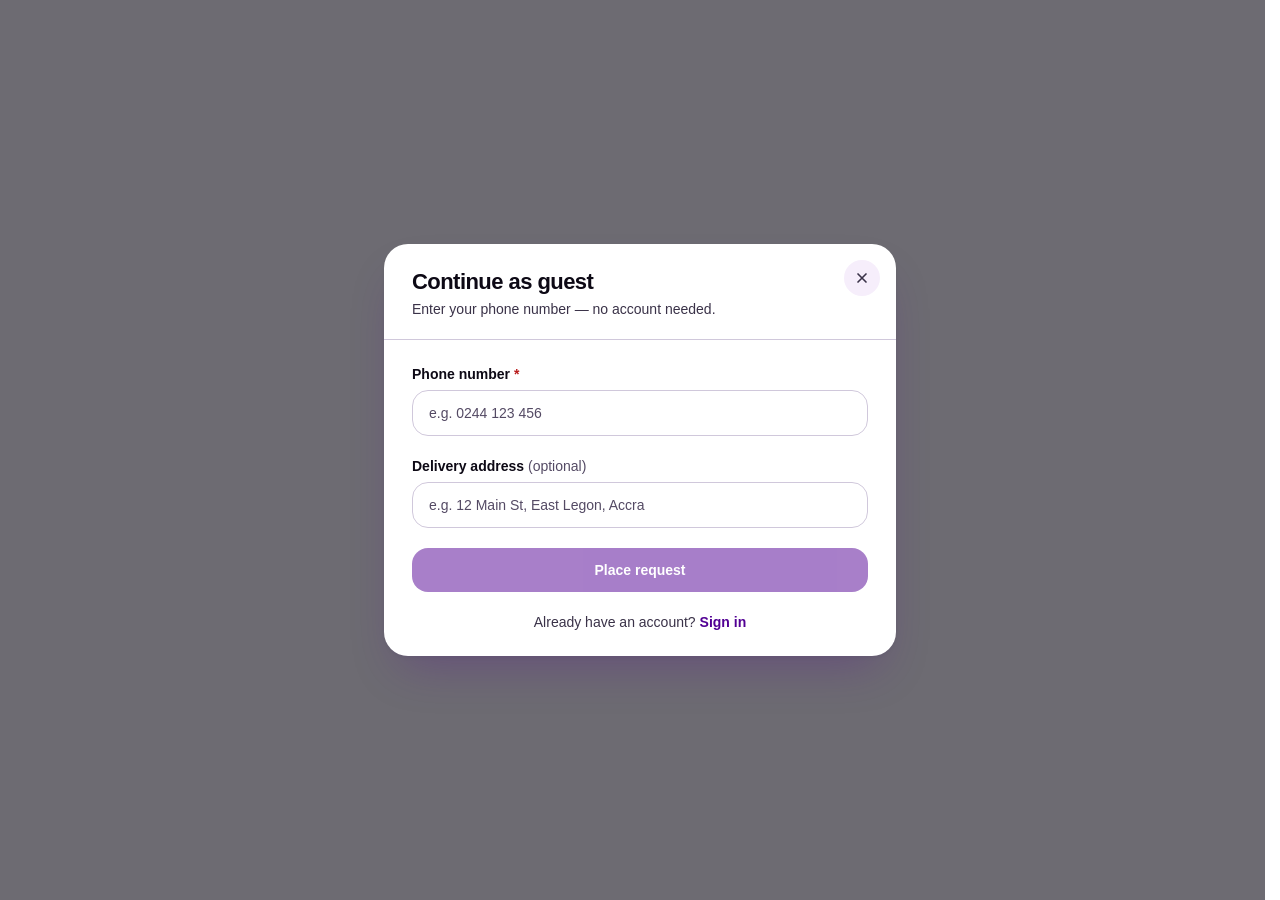
GuestCheckoutForm › placing the request › falls back to a generic message when the server gives none
Type "0244123456" into the field with id "guest-phone" at (640, 413), box [412,390,868,436]
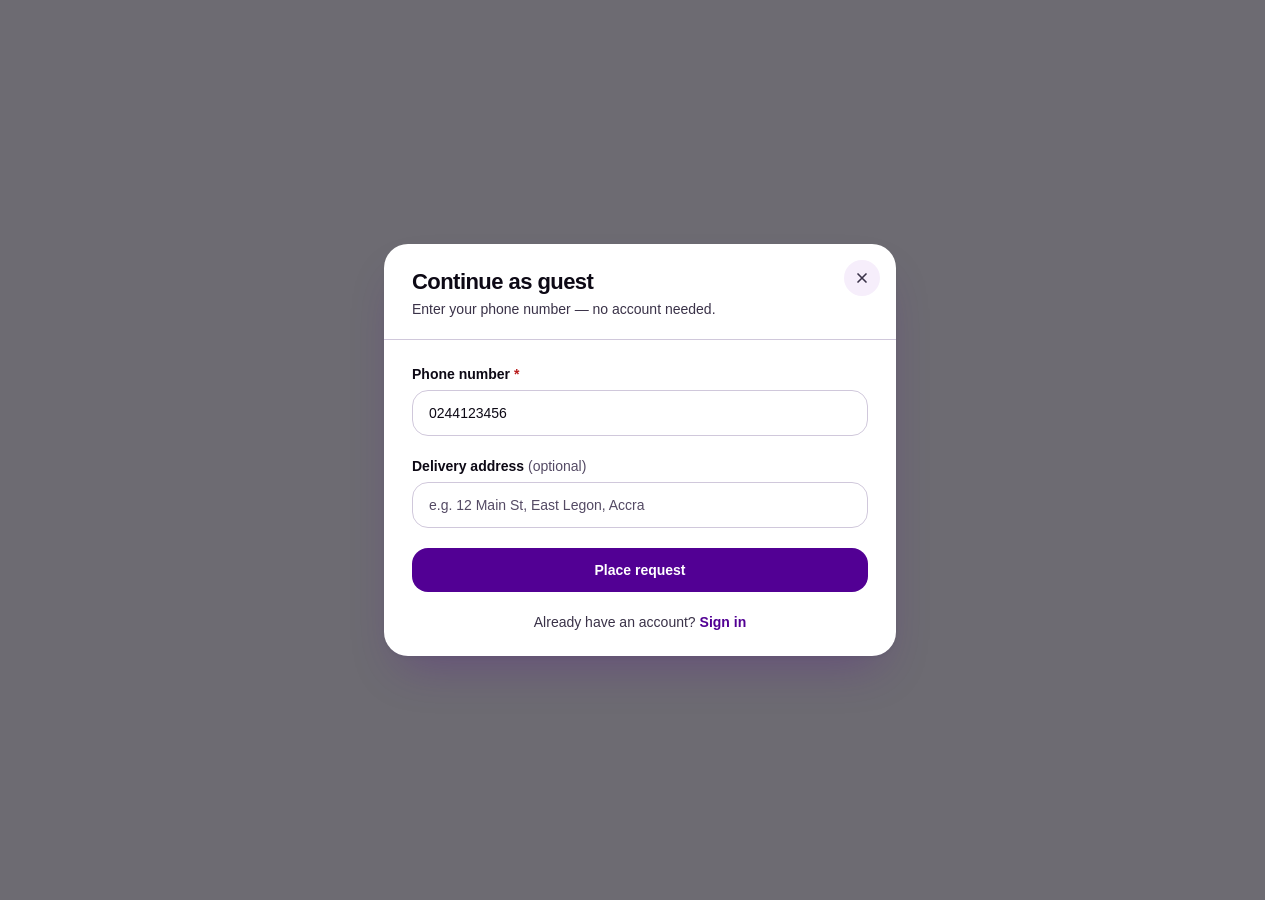
Submit the form, box [384,340,896,656]
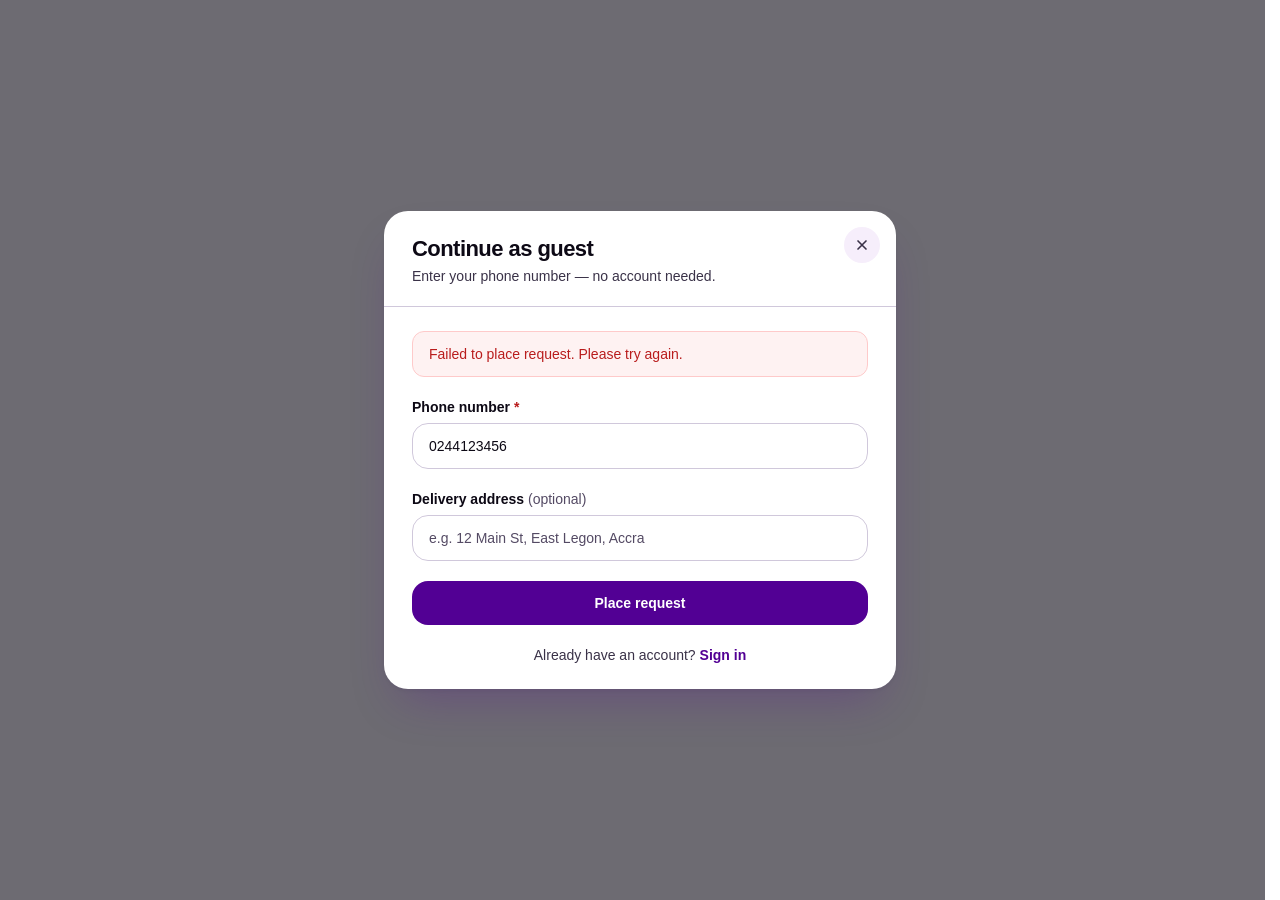
Now the text "Failed to place request. Please try again." is shown, box [412,331,868,377]
